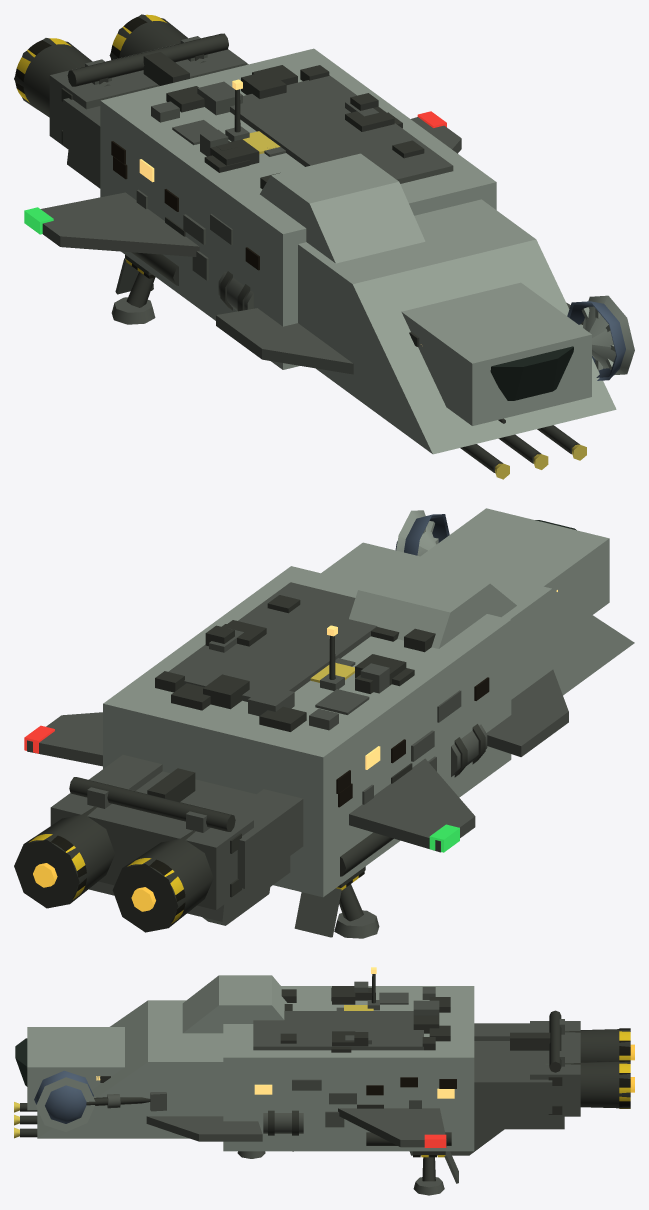
The model's file is courier-l(3).glb.
3 renders of one model, top to bottom at view 1: azimuth 30°, elevation 25°; view 2: azimuth 150°, elevation 25°; view 3: azimuth 270°, elevation 25°, orthographic. The views are drawn at different scales.
Visible parts, largest first — view 1: hullForebody, hullMain, hullNose, canopyFairing, accentStripe, wingletLeft, canardLeft, engineHousing (×2), engineBayExtension, cockpitGlass, propellantHeader, tailBoom0 (+10 smaller); view 2: hullMain, hullForebody, engineHousing (×2), accentStripe, hullNose, canopyFairing, engineBayExtension, wingletLeft, tailBoom0, canardLeft, hullTailWedge, wingletRight (+18 smaller); view 3: hullMain, hullForebody, accentStripe, hullNose, canopyFairing, engineHousing (×2), tailBoom1, wingletRight, engineBayExtension, hullTailWedge, canardRight, commDish (+17 smaller).
Boxes of the visible parts, box(x1,y1,x2,y2) form: hullForebody: box(298, 199, 616, 454); hullMain: box(100, 48, 496, 369); hullNose: box(401, 282, 591, 425); canopyFairing: box(260, 153, 425, 263); accentStripe: box(230, 75, 453, 183); wingletLeft: box(41, 192, 199, 256); canardLeft: box(216, 308, 353, 374); engineHousing (×2): box(14, 14, 187, 117); engineBayExtension: box(49, 36, 246, 156); cockpitGlass: box(490, 346, 573, 400); propellantHeader: box(67, 33, 228, 86); tailBoom0: box(63, 98, 100, 172); hullMain: box(103, 566, 511, 897); hullForebody: box(321, 542, 634, 699); engineHousing (×2): box(14, 806, 213, 932); accentStripe: box(168, 582, 377, 701); hullNose: box(420, 508, 609, 614); canopyFairing: box(349, 561, 516, 648); engineBayExtension: box(50, 779, 253, 909); wingletLeft: box(349, 758, 475, 852); tailBoom0: box(230, 789, 303, 888); canardLeft: box(486, 669, 568, 756); hullTailWedge: box(89, 771, 290, 921); wingletRight: box(27, 712, 102, 766); hullMain: box(223, 986, 474, 1151); hullForebody: box(37, 1000, 223, 1138); accentStripe: box(253, 1011, 423, 1050); hullNose: box(27, 1027, 124, 1110); canopyFairing: box(182, 975, 287, 1033); engineHousing (×2): box(565, 1029, 630, 1108); tailBoom1: box(474, 1069, 552, 1113); wingletRight: box(338, 1108, 446, 1147); engineBayExtension: box(530, 1021, 580, 1116); hullTailWedge: box(474, 1041, 564, 1129); canardRight: box(146, 1116, 262, 1141); commDish: box(34, 1070, 93, 1123).
Bounding box in the file's own units: 2.38 × 1.38 × 4.57.
